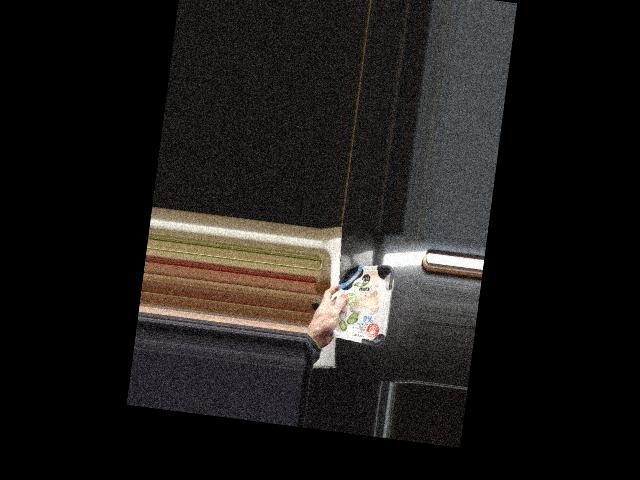cheese: (325, 260, 394, 347)
